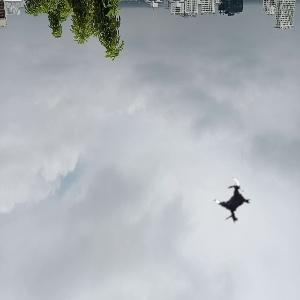drone: (208, 177, 258, 227)
